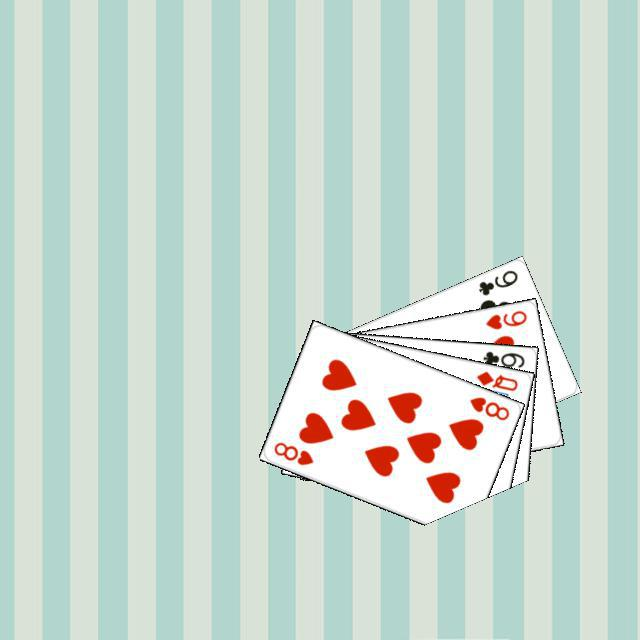6c: (478, 346, 526, 369)
8h: (465, 392, 511, 422), (269, 437, 315, 467)
9c: (473, 265, 520, 297)
9h: (480, 305, 528, 331)
Qd: (472, 366, 519, 393)
